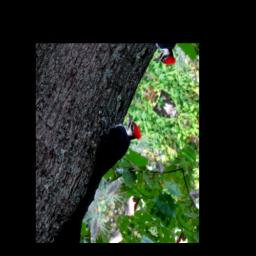Woodpecker: (72, 98, 148, 211)
